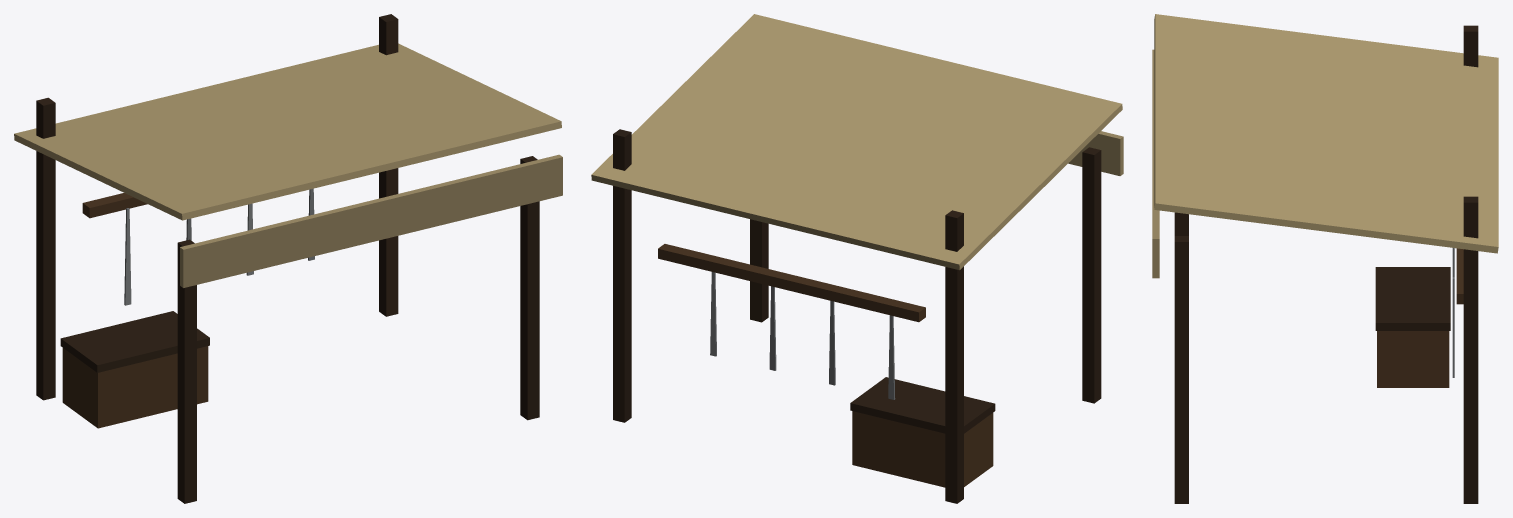
Rendered from awning.glb.
3 renders of one model, left to right at view 1: azimuth 30°, elevation 25°; view 2: azimuth 150°, elevation 25°; view 3: azimuth 270°, elevation 25°, orthographic. The views are drawn at different scales.
Visible parts, largest first — view 1: Awning; view 2: Awning; view 3: Awning.
Boxes of the visible parts, bbox=[...] form: Awning: bbox=[14, 14, 562, 503]; Awning: bbox=[591, 14, 1123, 503]; Awning: bbox=[1152, 14, 1498, 503].
Bounding box in the file's own units: 3.1 × 2.34 × 2.4.
